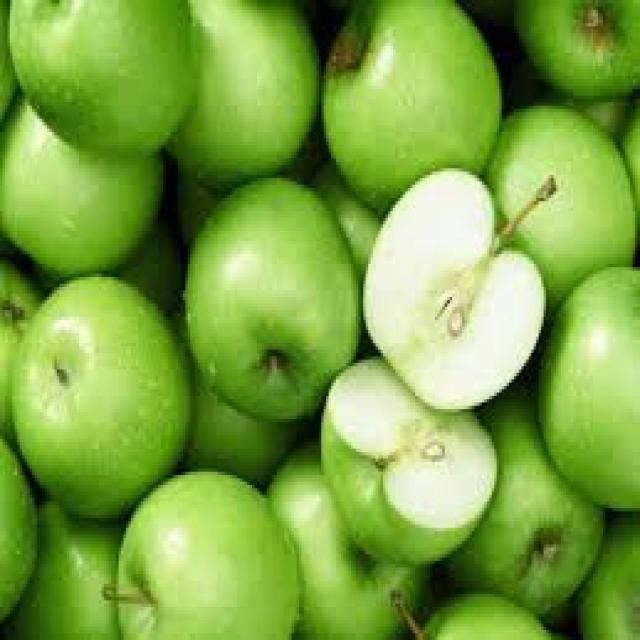apple: (13, 266, 200, 530)
